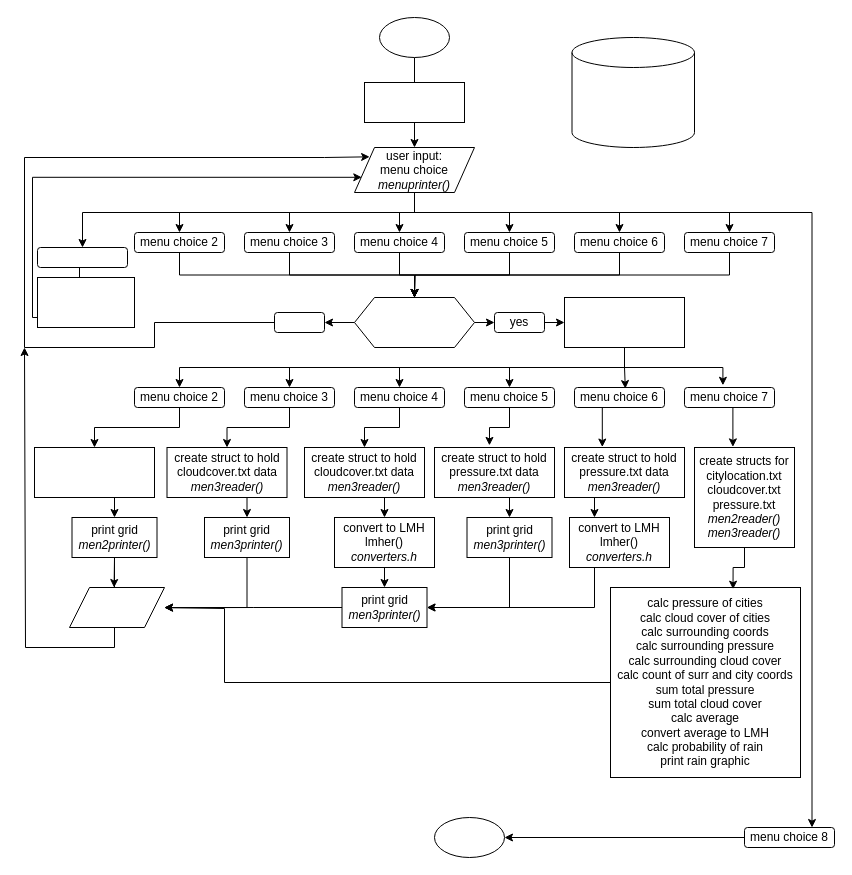
Image size: 852x875. Some labels were removed from this diagram. The centre of each missing label's shape, as x and y in pixels:
All structs declared in constructors.h: (x=632, y=92)
create struct to hold citylocation.txt data men2reader(): (x=94, y=472)
End: (x=469, y=837)
ENTER to return: (x=116, y=607)
get GridX and GridY xyer() converters.h: (x=624, y=322)
has config fille been processed?: (x=414, y=322)
input validation, file processing men1(): (x=85, y=302)
main() assdraft1.cpp: (x=414, y=102)
menu choice 1: (x=82, y=257)
no: (x=299, y=322)
start: (x=414, y=37)
